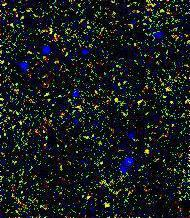star: (132, 135, 162, 165)
